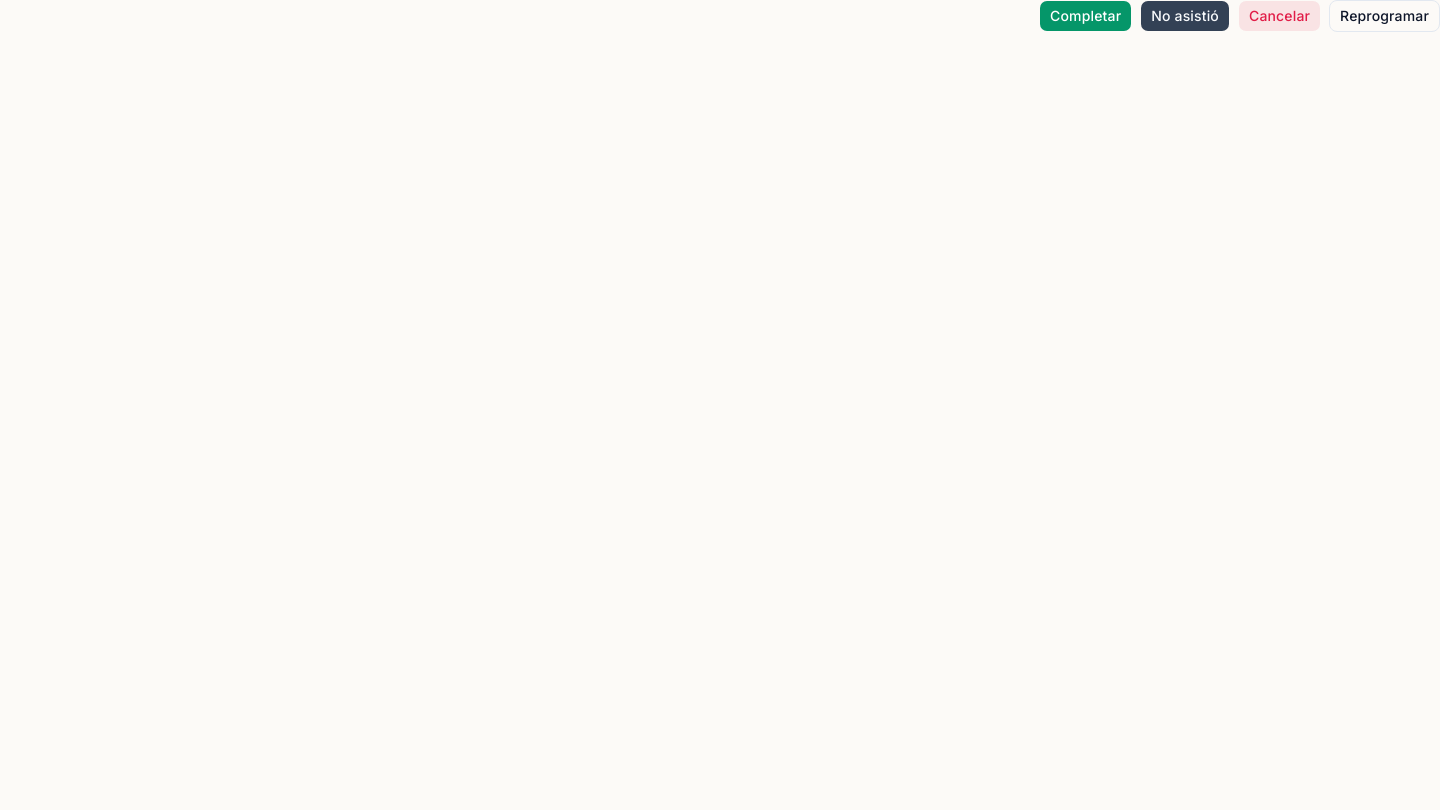
it: BookingDetailActions — reschedule dialog › renders the action's error message inline when rescheduleBooking returns an error
Click the button "Reprogramar" at (1385, 16), box x1=1329 y1=0 x2=1439 y2=32
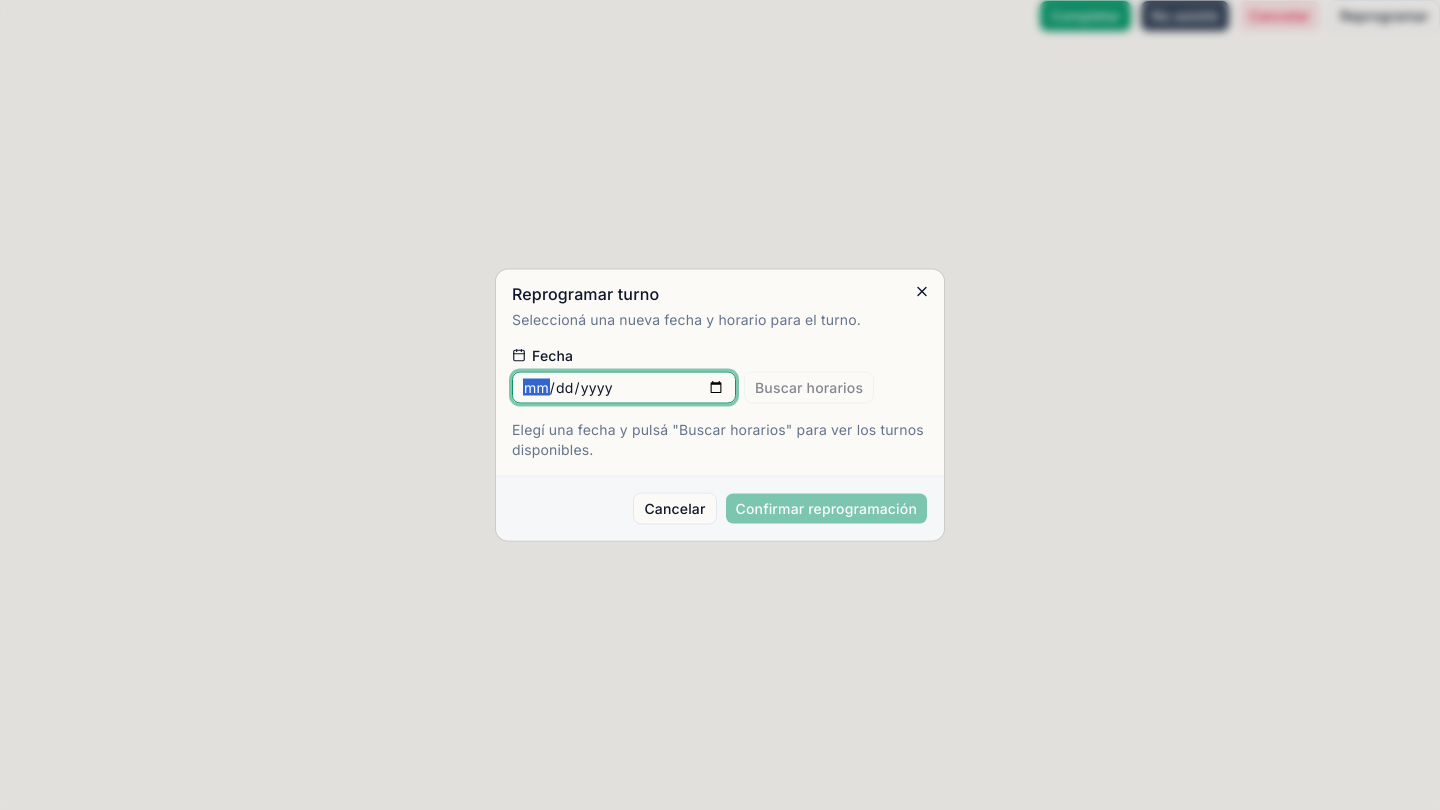
Type "2026-06-20" into the date field labelled "Fecha" at (624, 388), box x1=512 y1=372 x2=736 y2=404
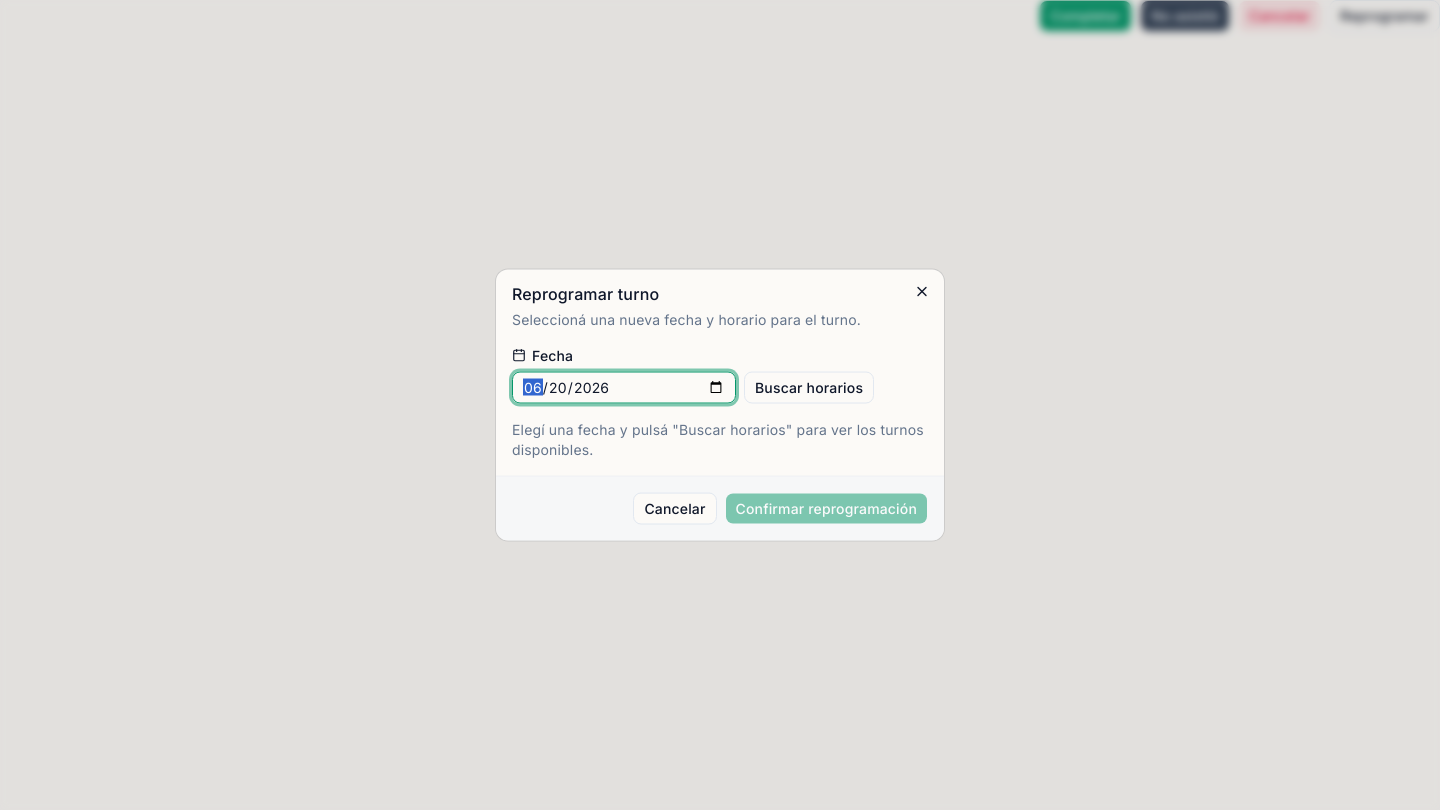
Click the button with test id "reschedule-search-button" at (809, 388), box x1=744 y1=372 x2=874 y2=404
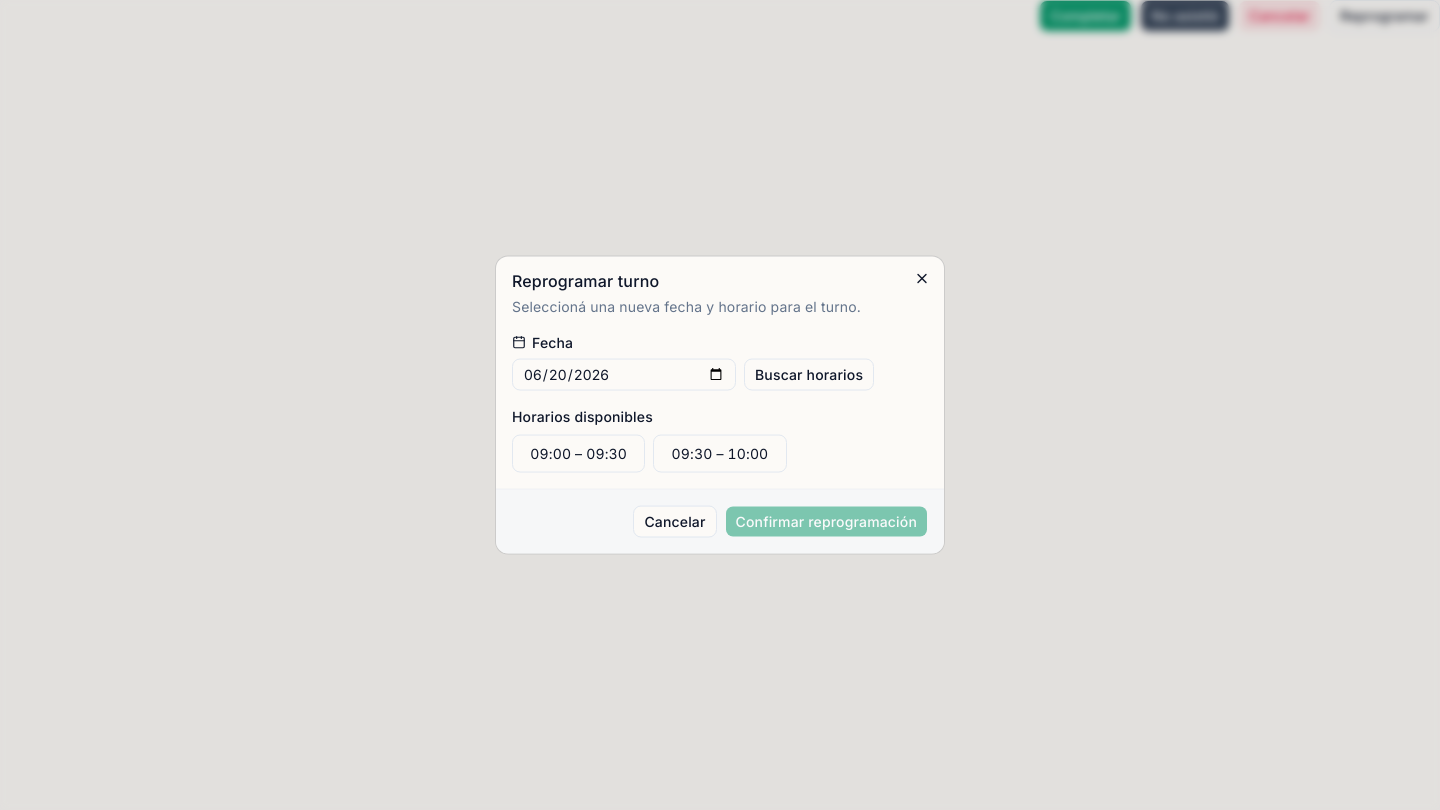
Click the button with test id "reschedule-slot-button" at (579, 454), box x1=512 y1=434 x2=645 y2=472
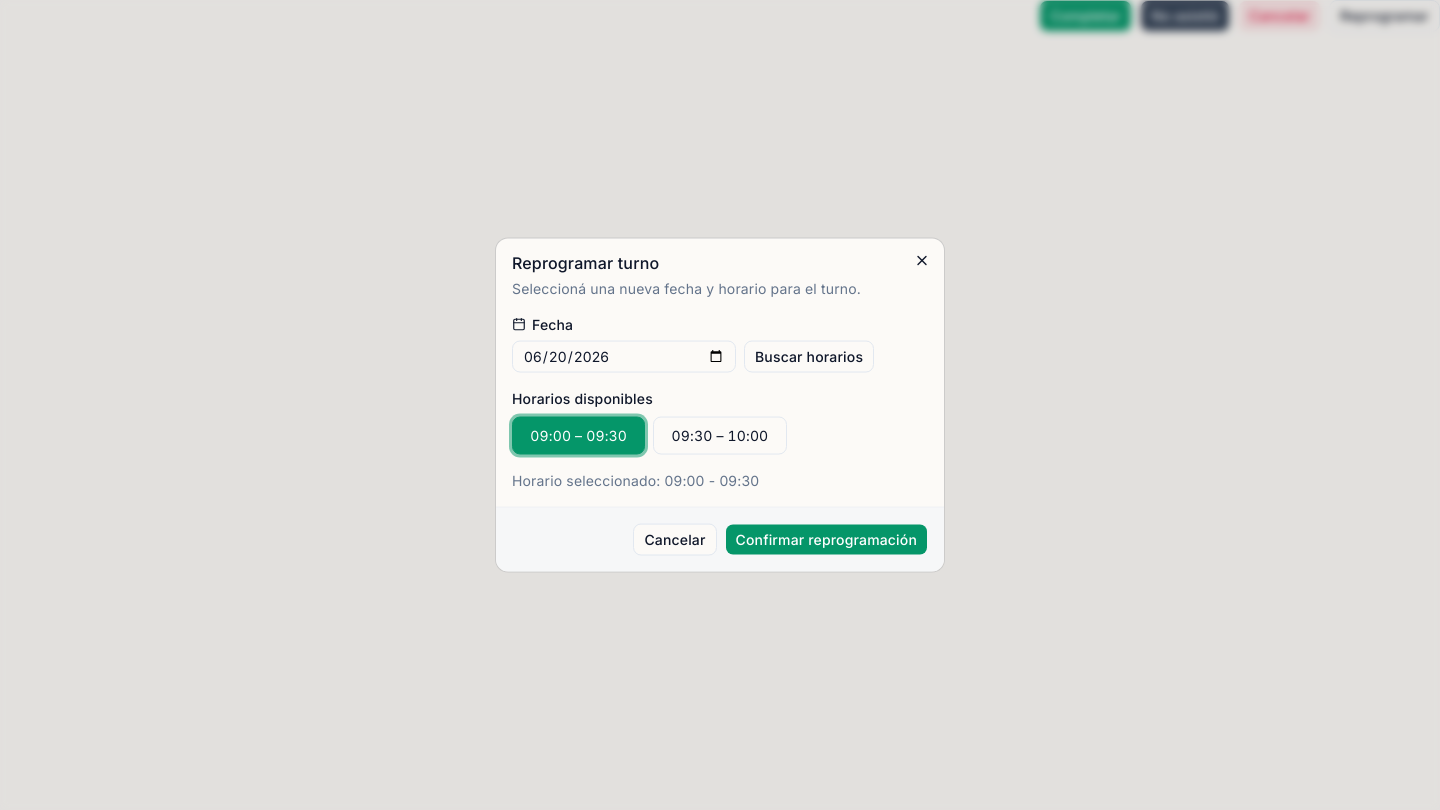
Click the button with test id "reschedule-confirm-button" at (826, 540), box x1=724 y1=524 x2=928 y2=556
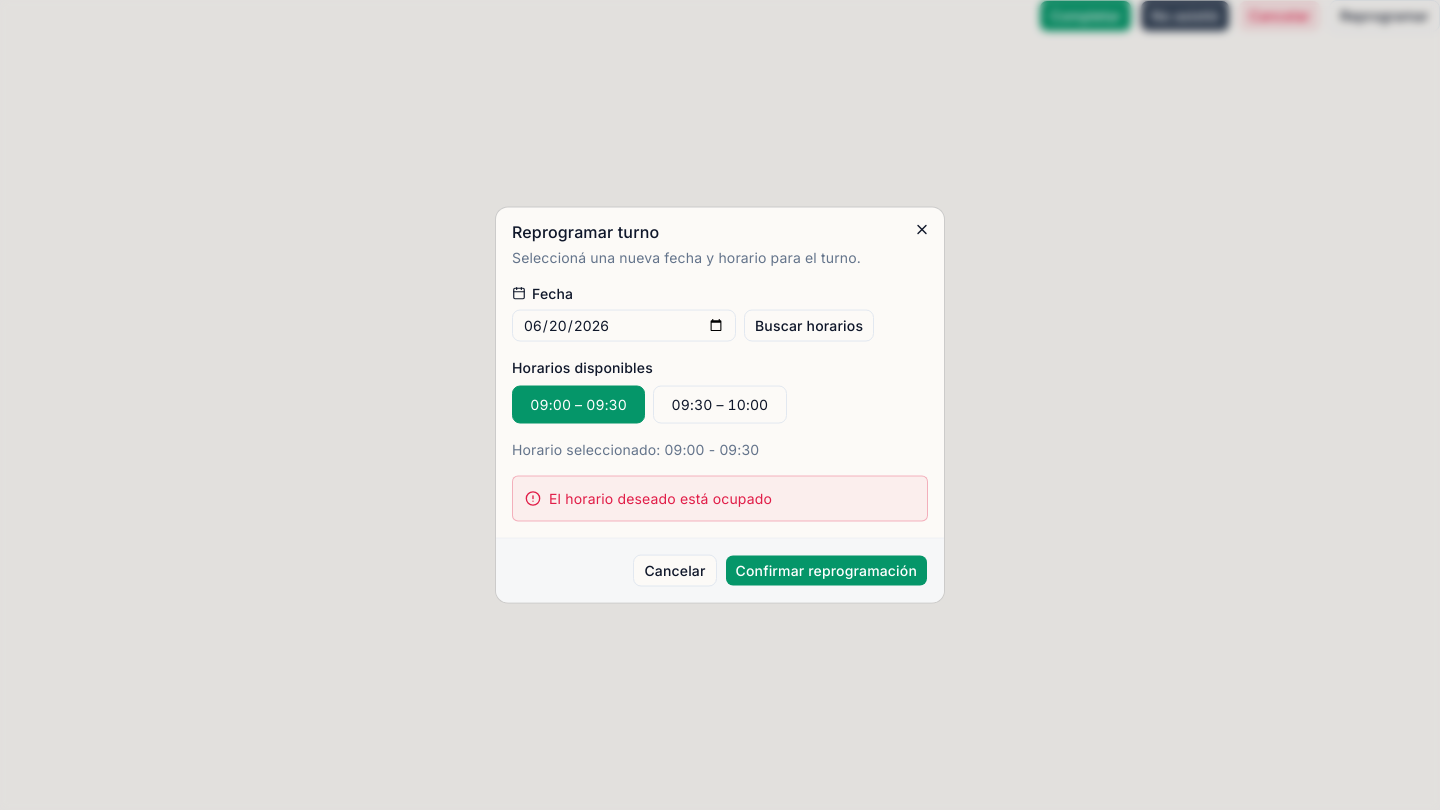
Expected: the dialog with test id "booking-reschedule-dialog" is shown, x1=496 y1=208 x2=944 y2=602
Expected: the message with test id "reschedule-submit-error" reads "El horario deseado está ocupado", x1=549 y1=490 x2=772 y2=506
